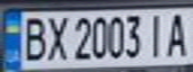0: (90, 12, 109, 61), (109, 12, 127, 60)
2: (69, 12, 93, 61)
3: (124, 11, 145, 60)
A: (163, 10, 193, 58)
B: (18, 14, 48, 62)
I: (145, 10, 169, 58)
X: (42, 12, 69, 63)
